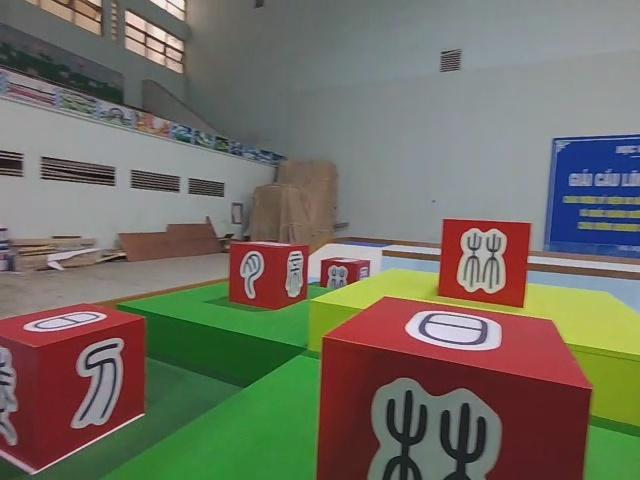R2 Fake: (313, 294, 598, 480), (0, 298, 149, 470), (436, 217, 534, 311), (226, 237, 310, 312)
